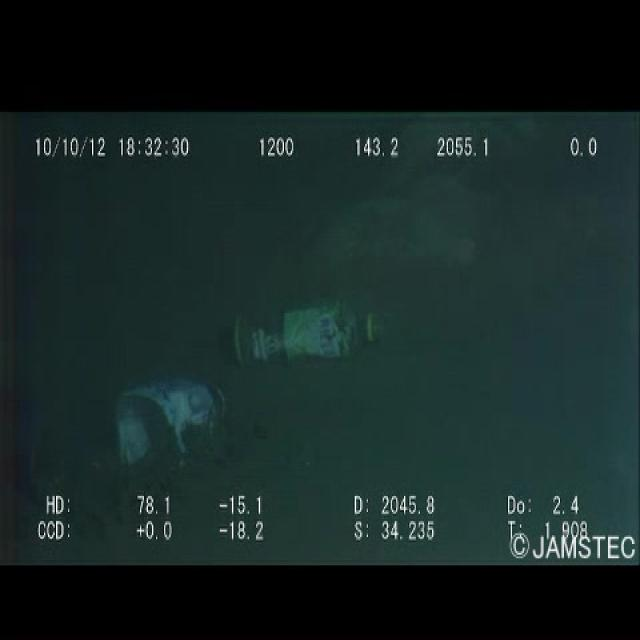plastic: (76, 352, 263, 501), (224, 284, 392, 394)
